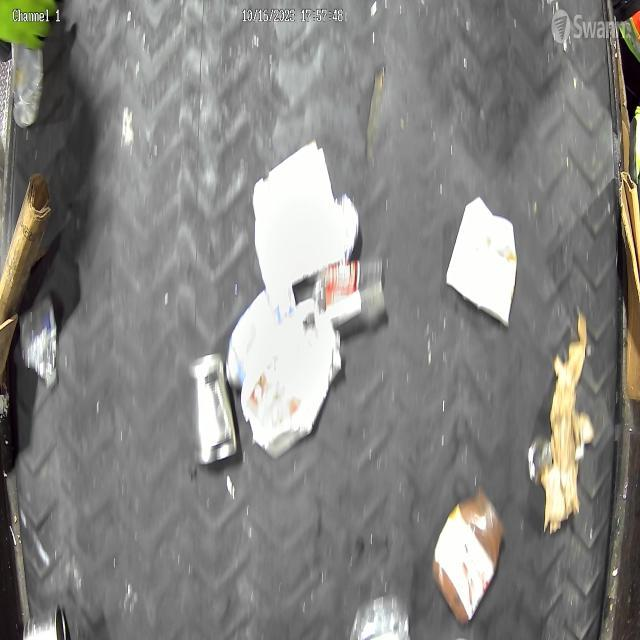can: (192, 352, 238, 466), (22, 603, 66, 640)
milk_jug: (241, 298, 343, 458), (226, 282, 296, 389)
